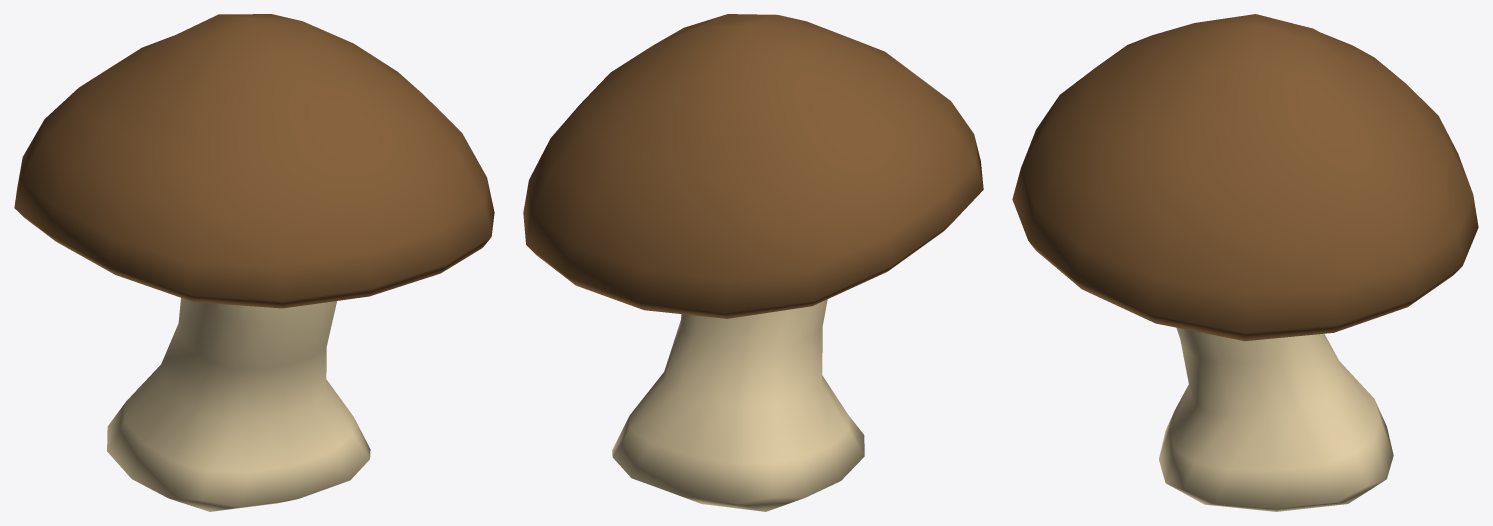
Rendered from M-Mushroom.fbx.
3 renders of one model, left to right at view 1: azimuth 30°, elevation 25°; view 2: azimuth 150°, elevation 25°; view 3: azimuth 270°, elevation 25°, orthographic. The views are drawn at different scales.
Parts seen in each view (by area): view 1: Cube.001; view 2: Cube.001; view 3: Cube.001.
Part boxes in pixels (box(x1,y1,x2,y2)): Cube.001: box(14, 14, 494, 511); Cube.001: box(523, 14, 983, 511); Cube.001: box(1012, 14, 1478, 511).
Bounding box in the file's own units: 240 × 262 × 240.
